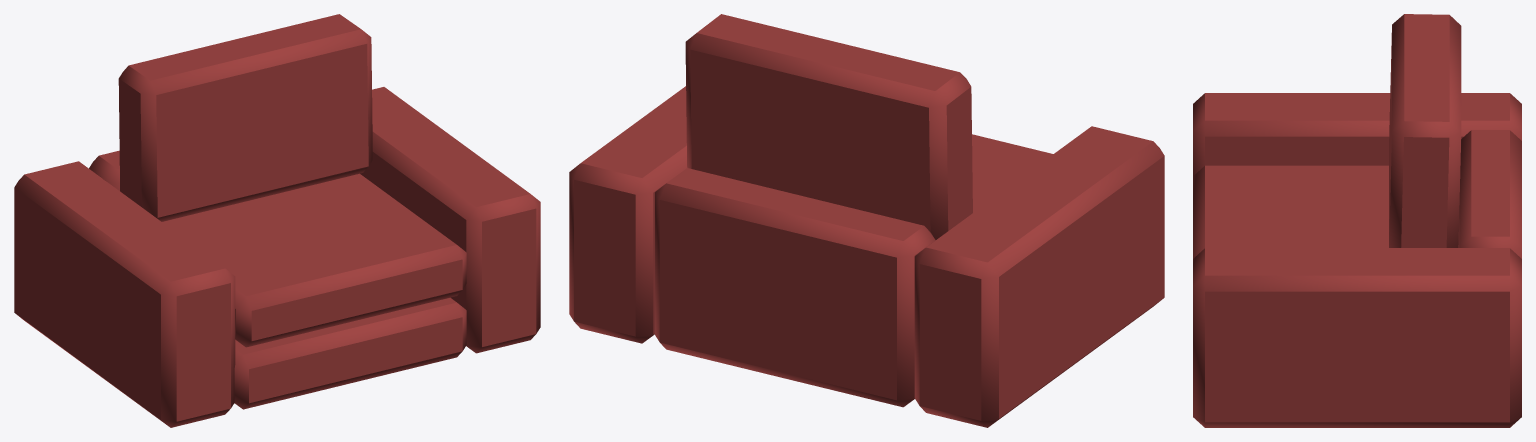
Rendered from Sofa_Small.glb.
3 views of the same model, side by side, from view 1: azimuth 30°, elevation 25°; view 2: azimuth 150°, elevation 25°; view 3: azimuth 270°, elevation 25° (orthographic). The views are drawn at different scales.
Visible parts, largest first — view 1: Sofa_Small; view 2: Sofa_Small; view 3: Sofa_Small.
Part boxes in pixels (box(x1,y1,x2,y2)): Sofa_Small: box(14, 14, 540, 427); Sofa_Small: box(569, 14, 1164, 427); Sofa_Small: box(1193, 14, 1521, 427).
Size of the model in its own units: 2.03 by 1.32 by 1.46.
